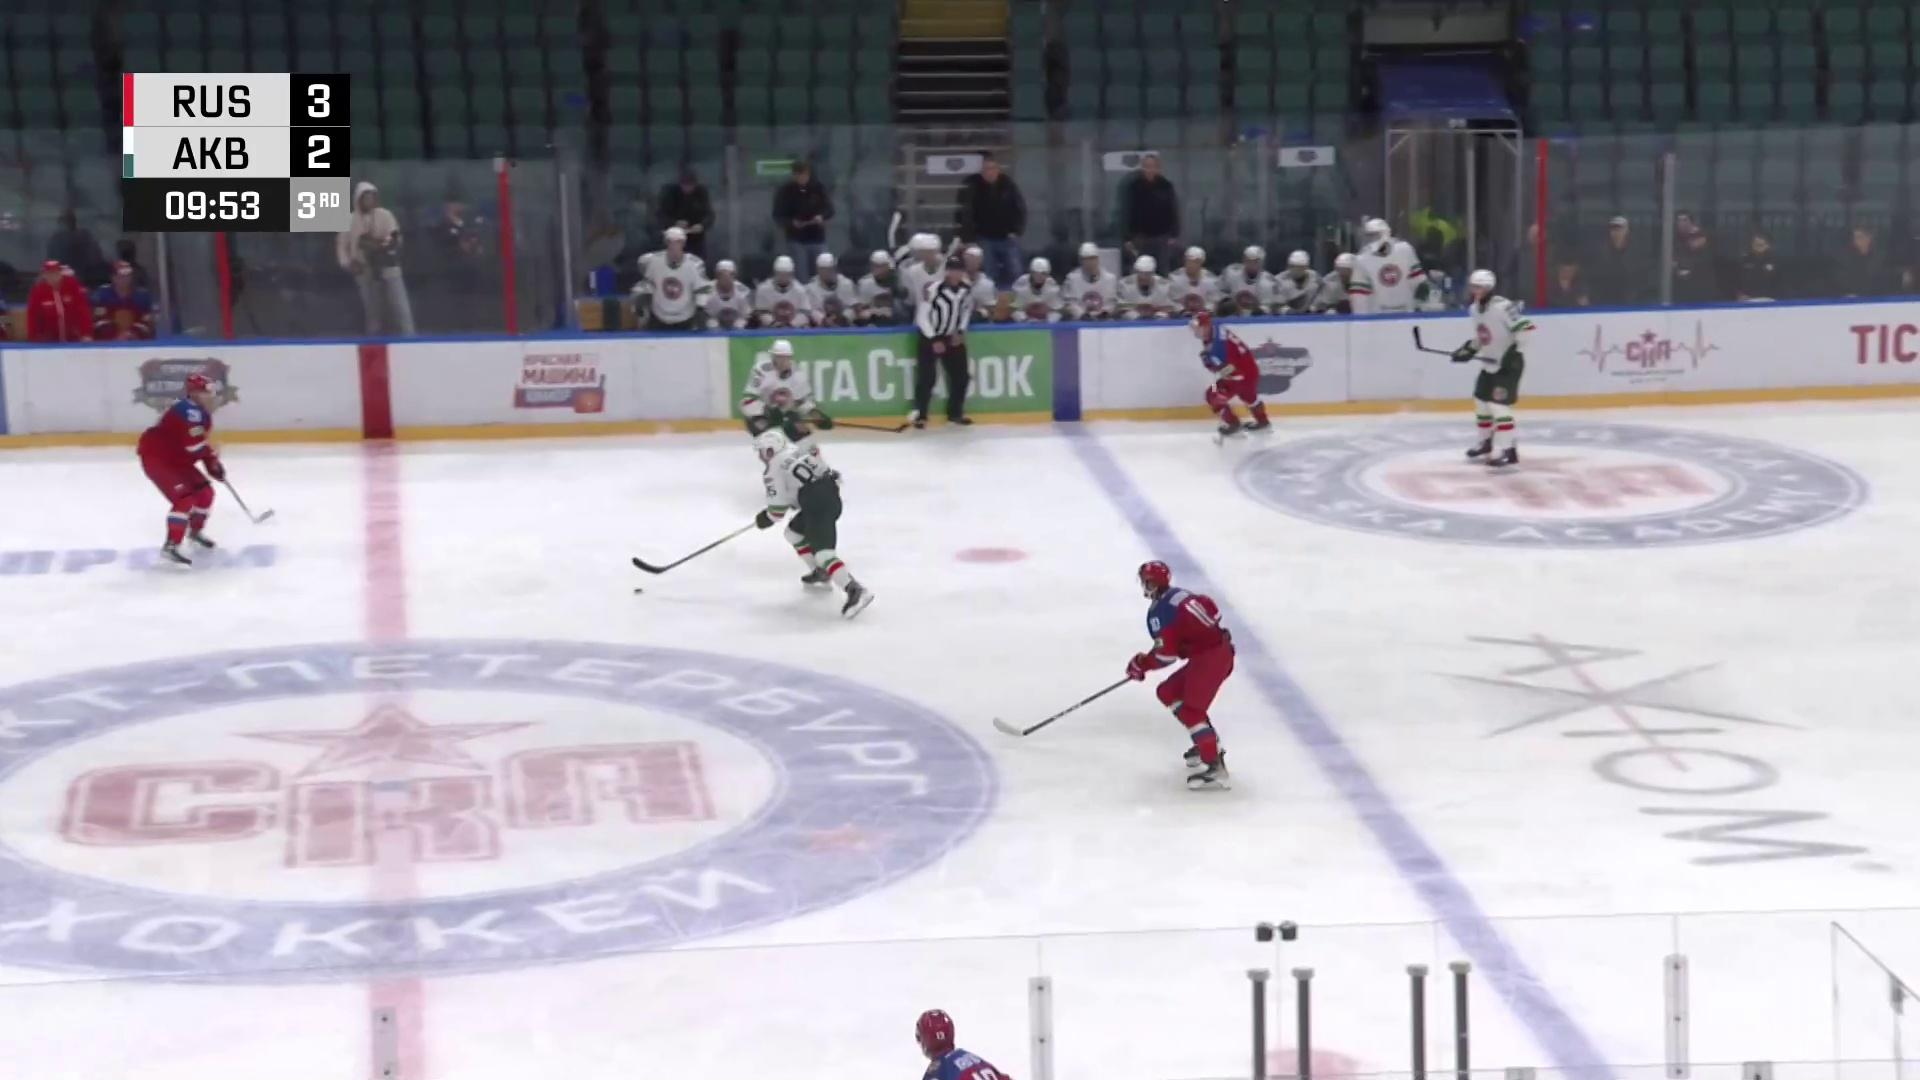ball: (633, 587, 644, 595)
